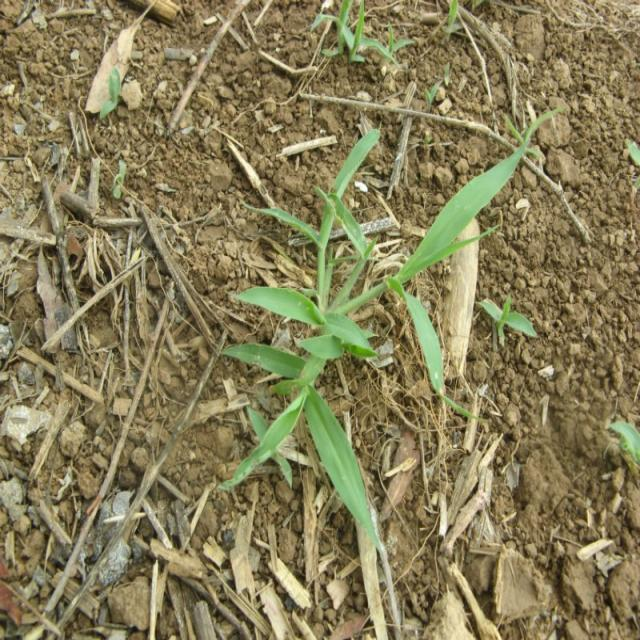bg: (218, 126, 525, 542)
